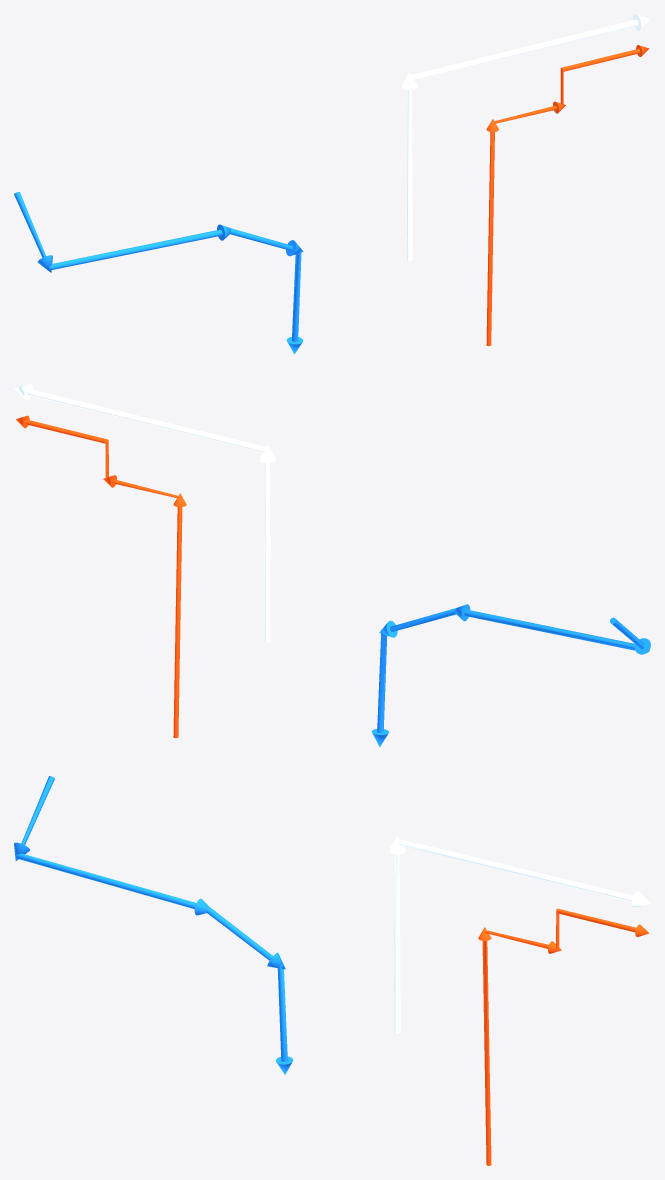
Rendered from closed_drain_system_flow.glb.
3 views of the same model, one above another, from view 1: azimuth 30°, elevation 25°; view 2: azimuth 150°, elevation 25°; view 3: azimuth 330°, elevation 25° (orthographic). The views are drawn at different scales.
Parts seen in each view (by area): view 1: drains, vapour, pump_out; view 2: drains, vapour, pump_out; view 3: drains, vapour, pump_out.
Boxes of the visible parts, left/top/right/bottom form: drains: left=14, top=192, right=303, bottom=354; vapour: left=401, top=14, right=650, bottom=260; pump_out: left=486, top=45, right=649, bottom=346; drains: left=371, top=604, right=650, bottom=746; vapour: left=14, top=383, right=276, bottom=642; pump_out: left=16, top=415, right=186, bottom=738; drains: left=14, top=776, right=293, bottom=1074; vapour: left=388, top=835, right=650, bottom=1033; pump_out: left=478, top=908, right=649, bottom=1165.
Size of the model in its own units: 4.39 by 2.05 by 0.4652.
